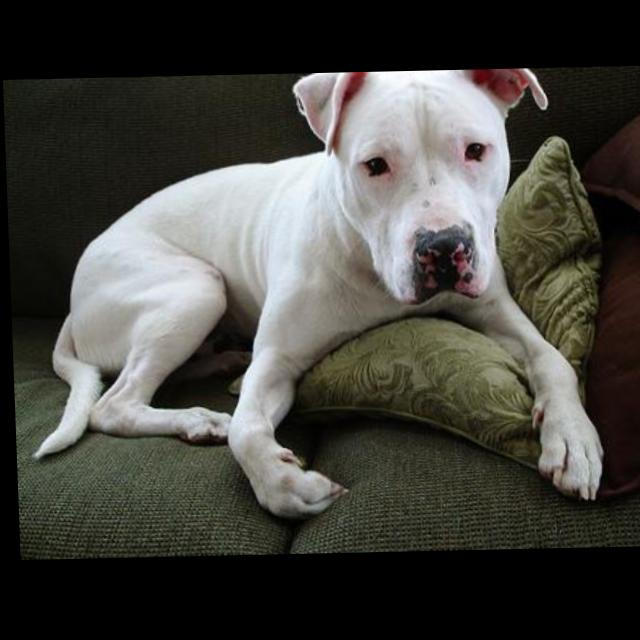amstaff: (18, 71, 606, 527)
